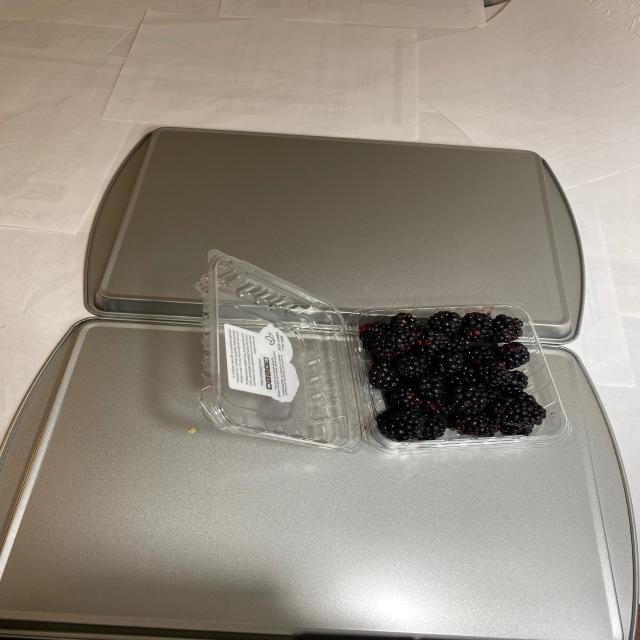blackberries: (370, 308, 534, 442)
